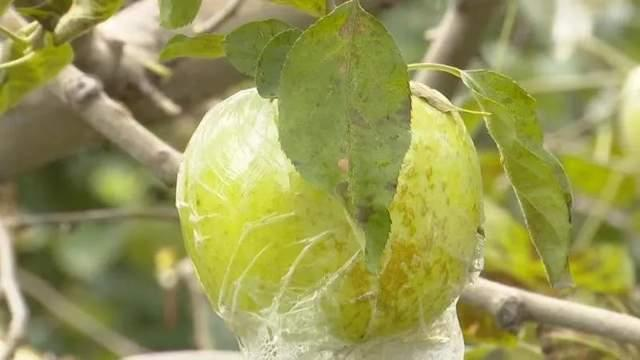apple: (173, 79, 485, 343)
